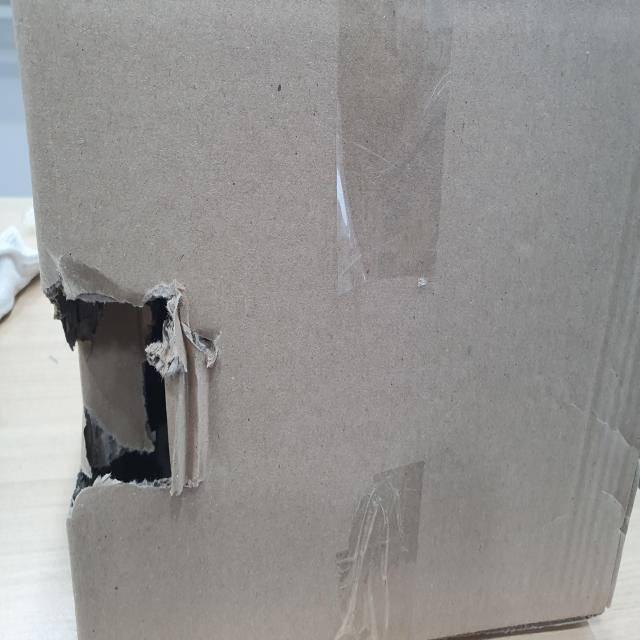damaged: (51, 271, 191, 507)
